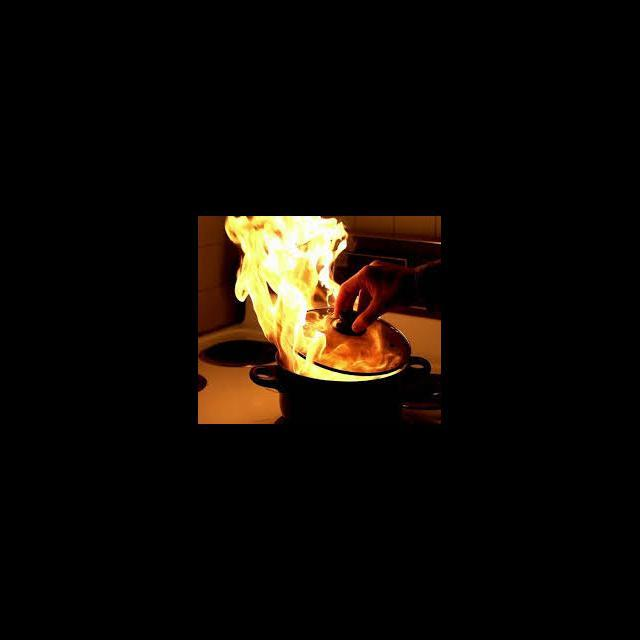Fire: (222, 216, 348, 380)
